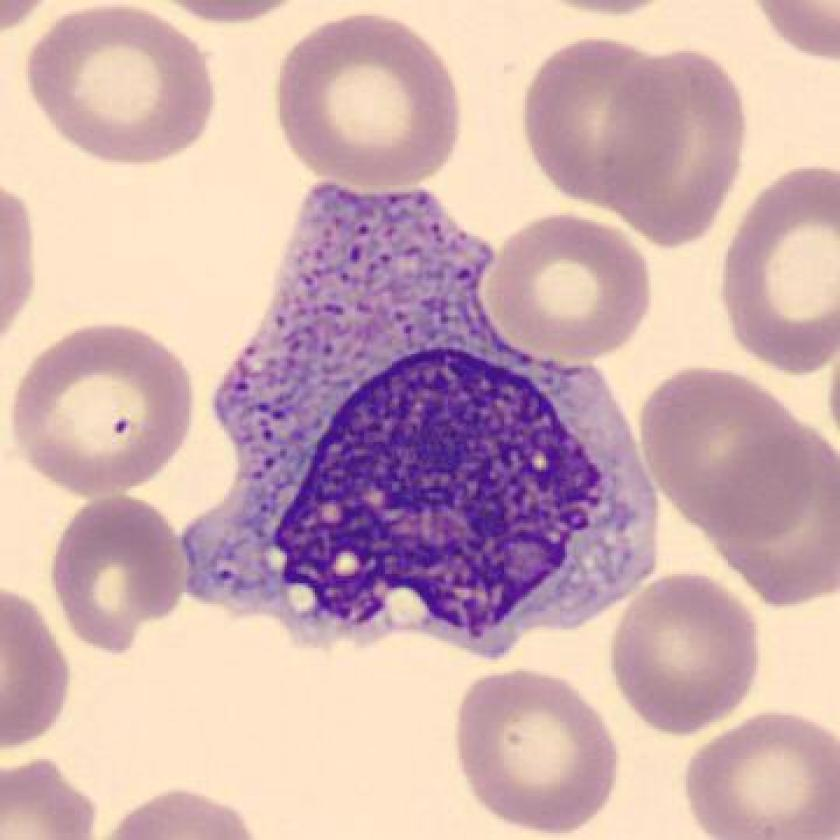monocyte: (167, 168, 682, 681)
